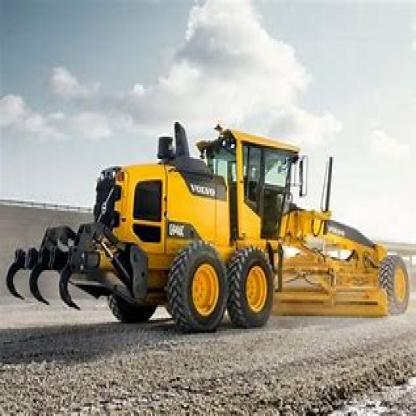bull_dozer/loader/grader: (11, 113, 414, 333)
